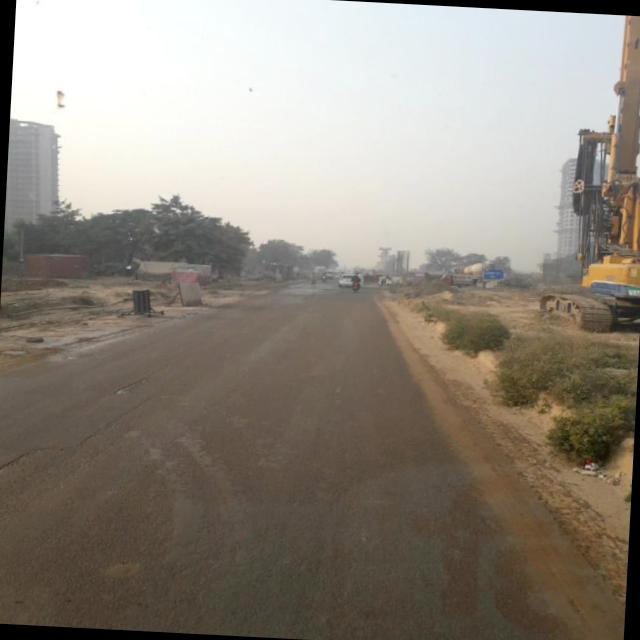pothole: (0, 392, 161, 499), (113, 341, 188, 404)
